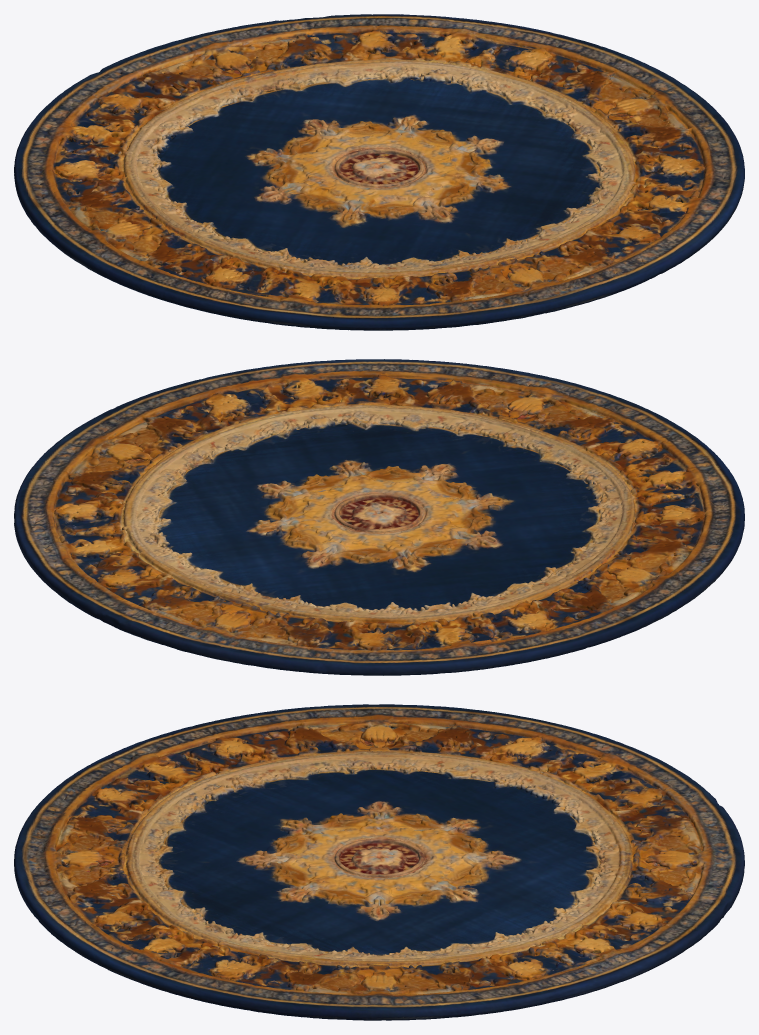
Rendered from Meshy_AI_dark_blue_and_gold_co_0225023552_texture.glb.
3 renders of one model, top to bottom at view 1: azimuth 30°, elevation 25°; view 2: azimuth 150°, elevation 25°; view 3: azimuth 270°, elevation 25°, orthographic.
Size of the model in its own units: 1.9 by 0.0381 by 1.9.
1 material, 1 textured.
